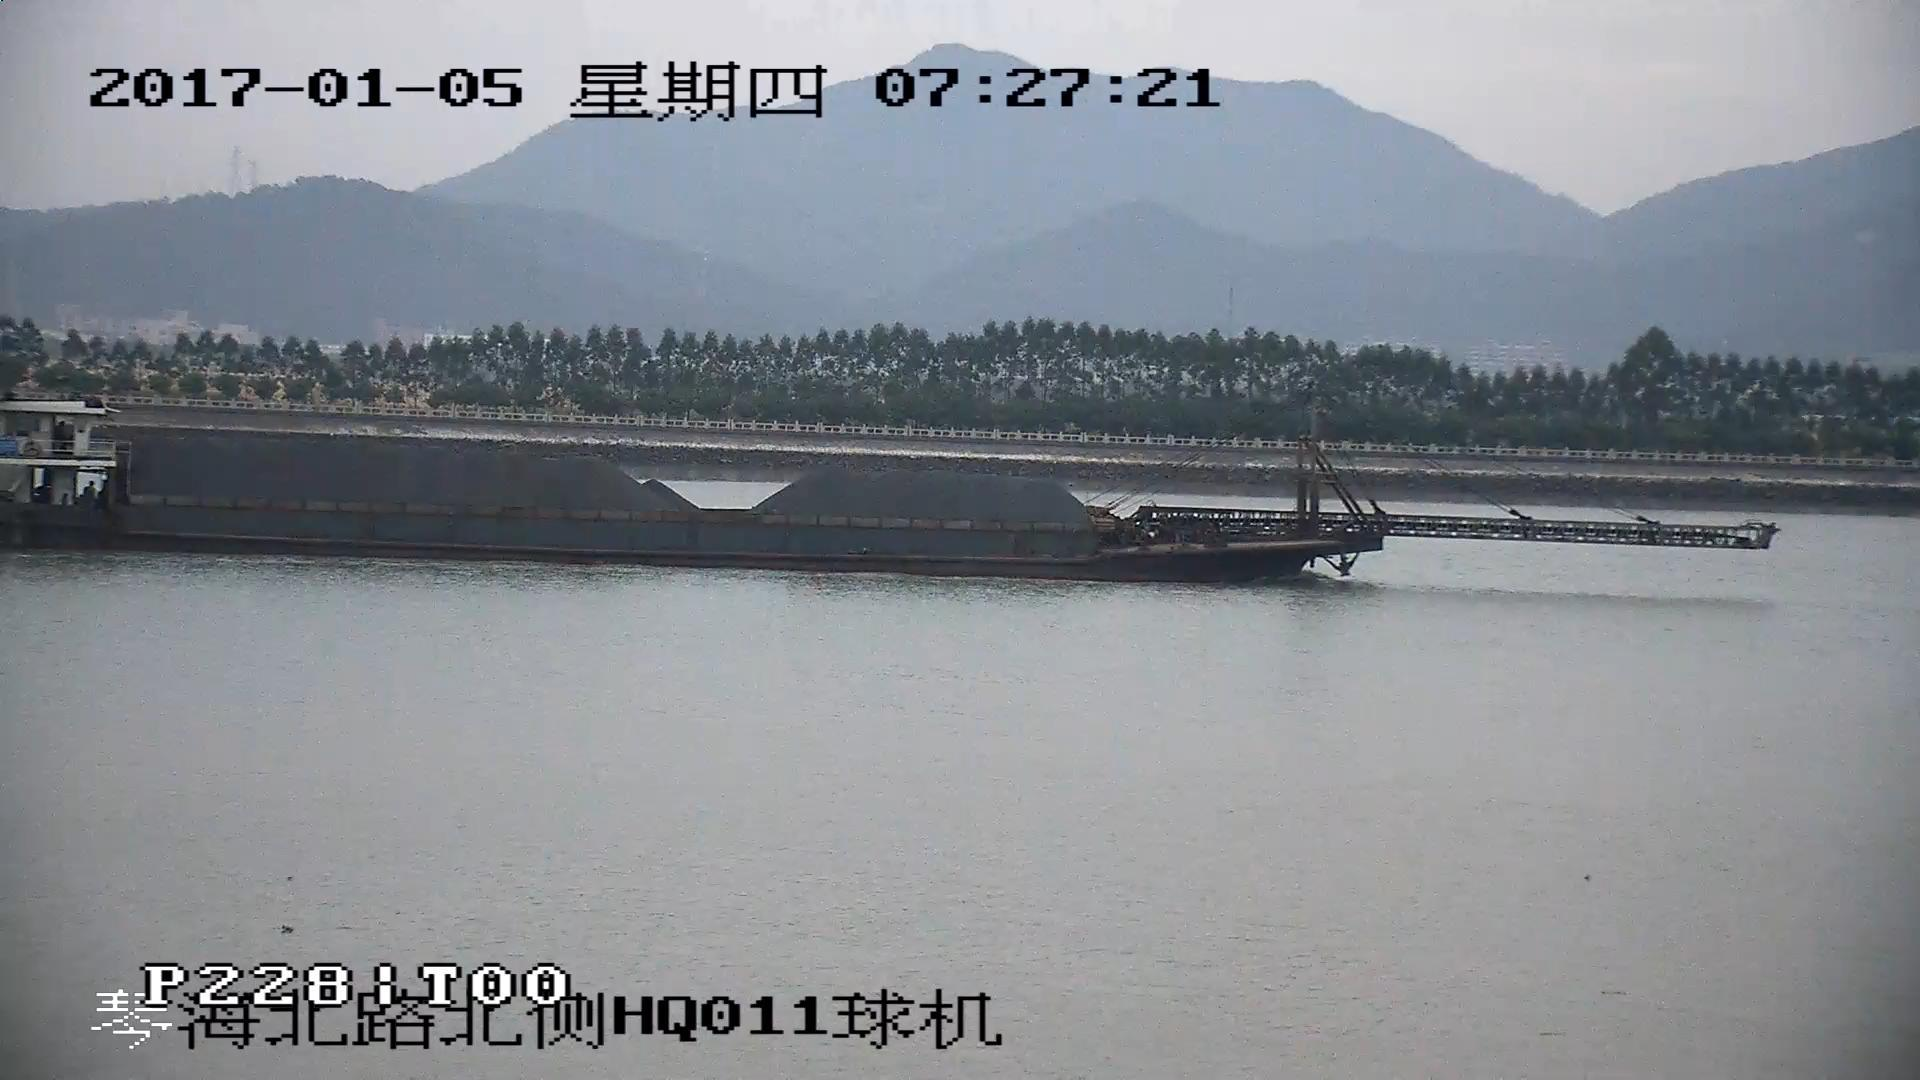Ship: (3, 400, 1775, 583)
